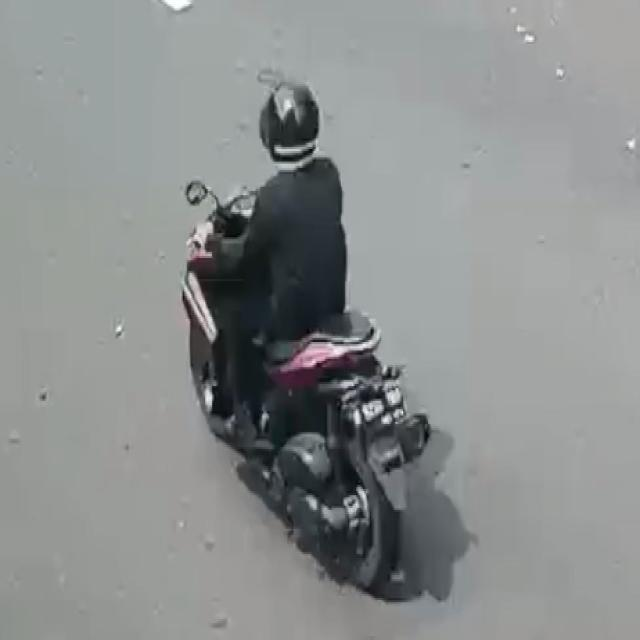helm: (248, 67, 333, 178)
motor: (178, 65, 434, 607)
spion: (181, 163, 238, 222)
